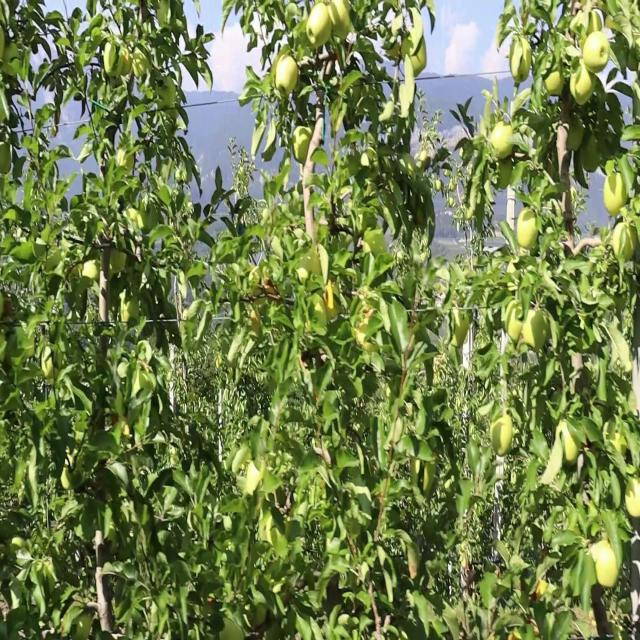apple: (524, 305, 551, 352), (612, 220, 640, 265), (584, 30, 611, 76), (596, 540, 620, 590), (604, 170, 628, 219), (308, 7, 332, 53), (104, 42, 132, 80), (276, 56, 300, 100), (492, 412, 513, 457), (244, 455, 267, 496), (572, 63, 593, 107), (328, 1, 352, 39), (516, 213, 539, 252), (492, 120, 514, 160), (512, 42, 532, 85), (580, 135, 600, 176), (292, 127, 312, 165), (564, 120, 585, 155), (560, 426, 580, 462), (320, 284, 339, 320), (104, 42, 122, 78), (544, 71, 565, 100), (508, 305, 524, 341), (412, 42, 428, 78), (112, 412, 132, 439), (452, 319, 470, 348), (628, 476, 640, 519), (496, 163, 513, 192), (588, 7, 604, 36), (248, 305, 261, 334), (120, 49, 133, 78), (0, 149, 13, 176), (532, 583, 548, 604), (612, 433, 627, 455), (628, 49, 640, 71), (4, 298, 13, 316), (5, 37, 7, 46)
